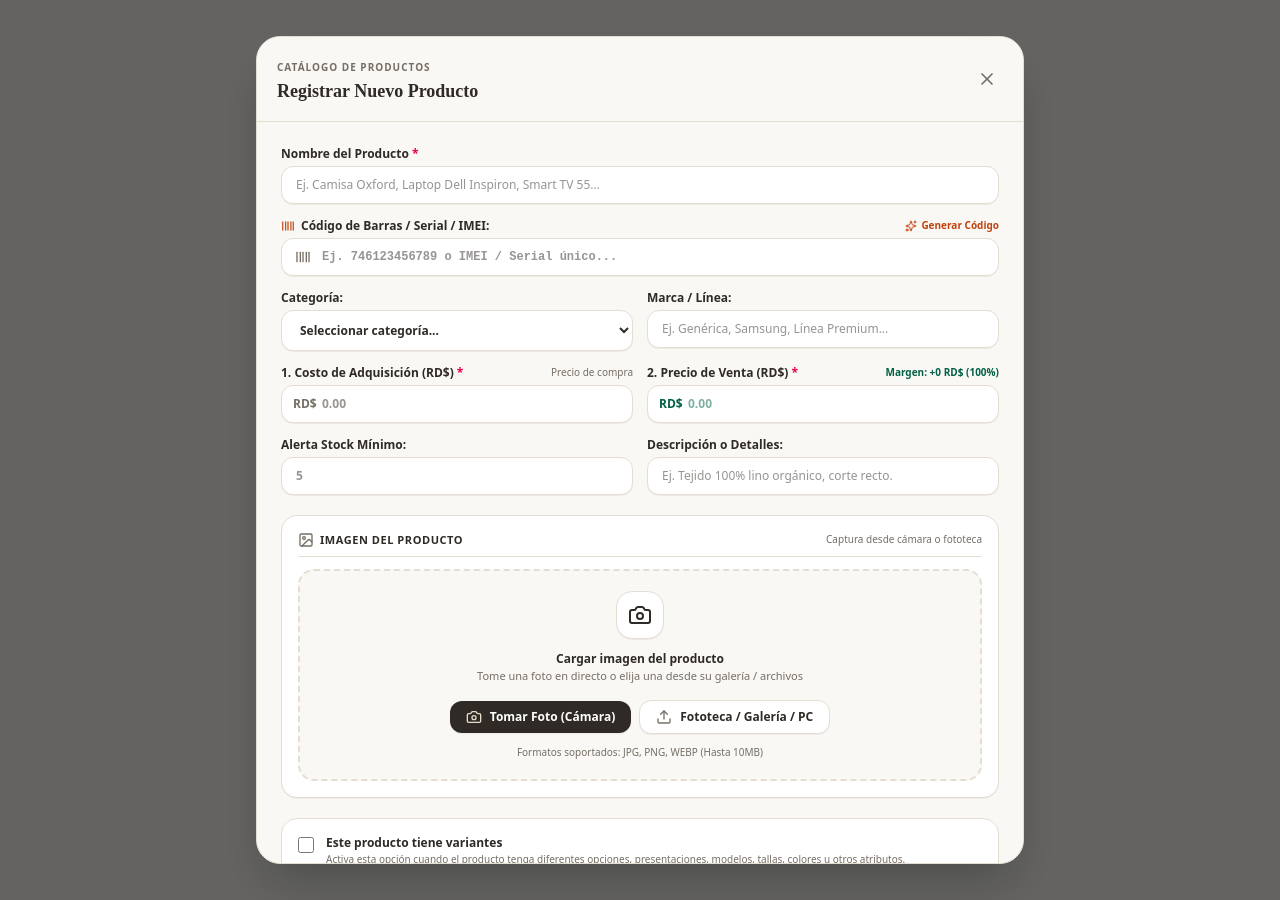
ProductFormModal -- "Generar Combinaciones" es aditivo (Parte 4/13) › no elimina una variante agregada individualmente que está fuera de la selección actual
This screenshot has width=1280, height=900.
Click the checkbox labelled "Este producto tiene variantes" at (306, 845), box [298,837,314,853]
(page scrolled)
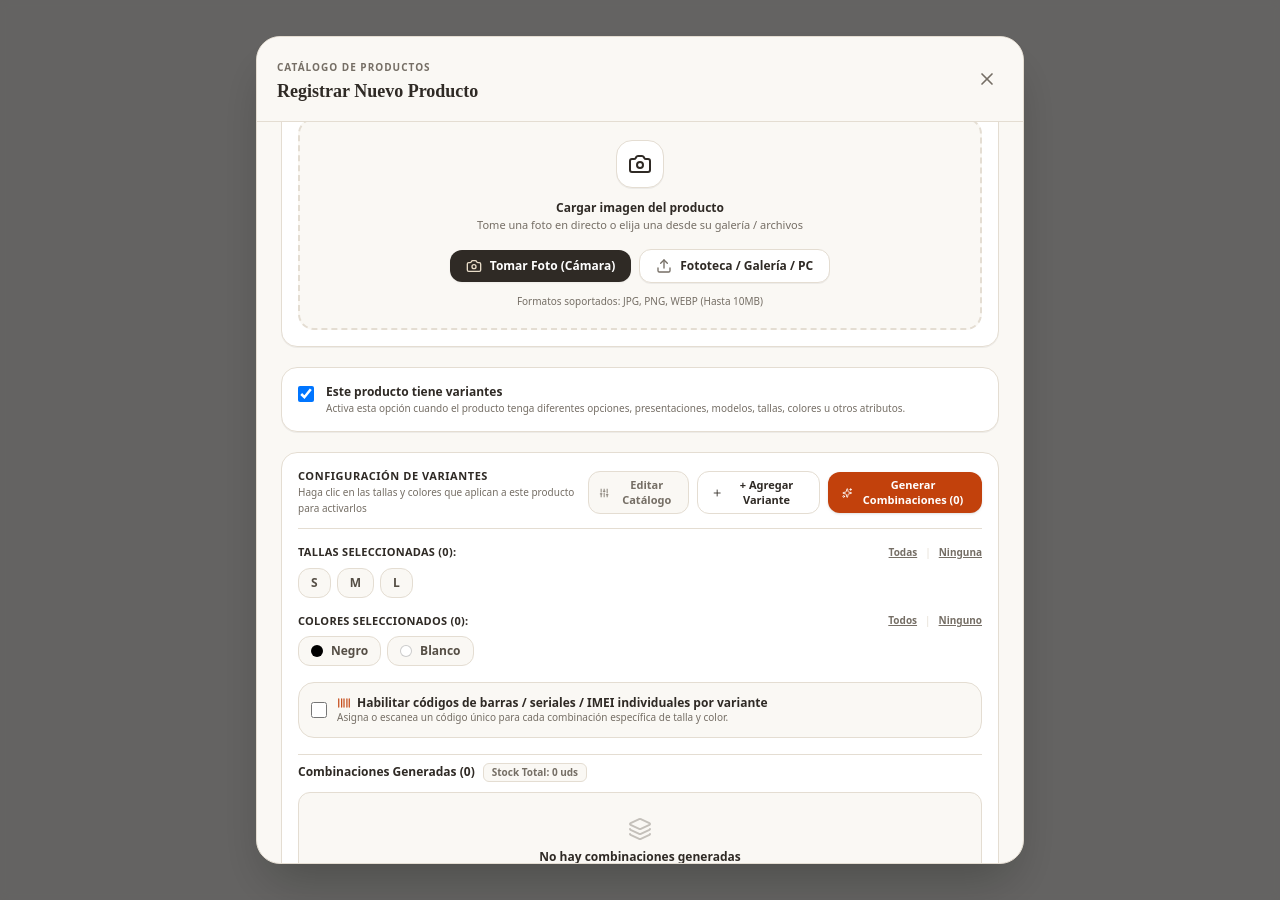
Click the button "+ Agregar Variante" at (758, 493), box [697,471,820,514]
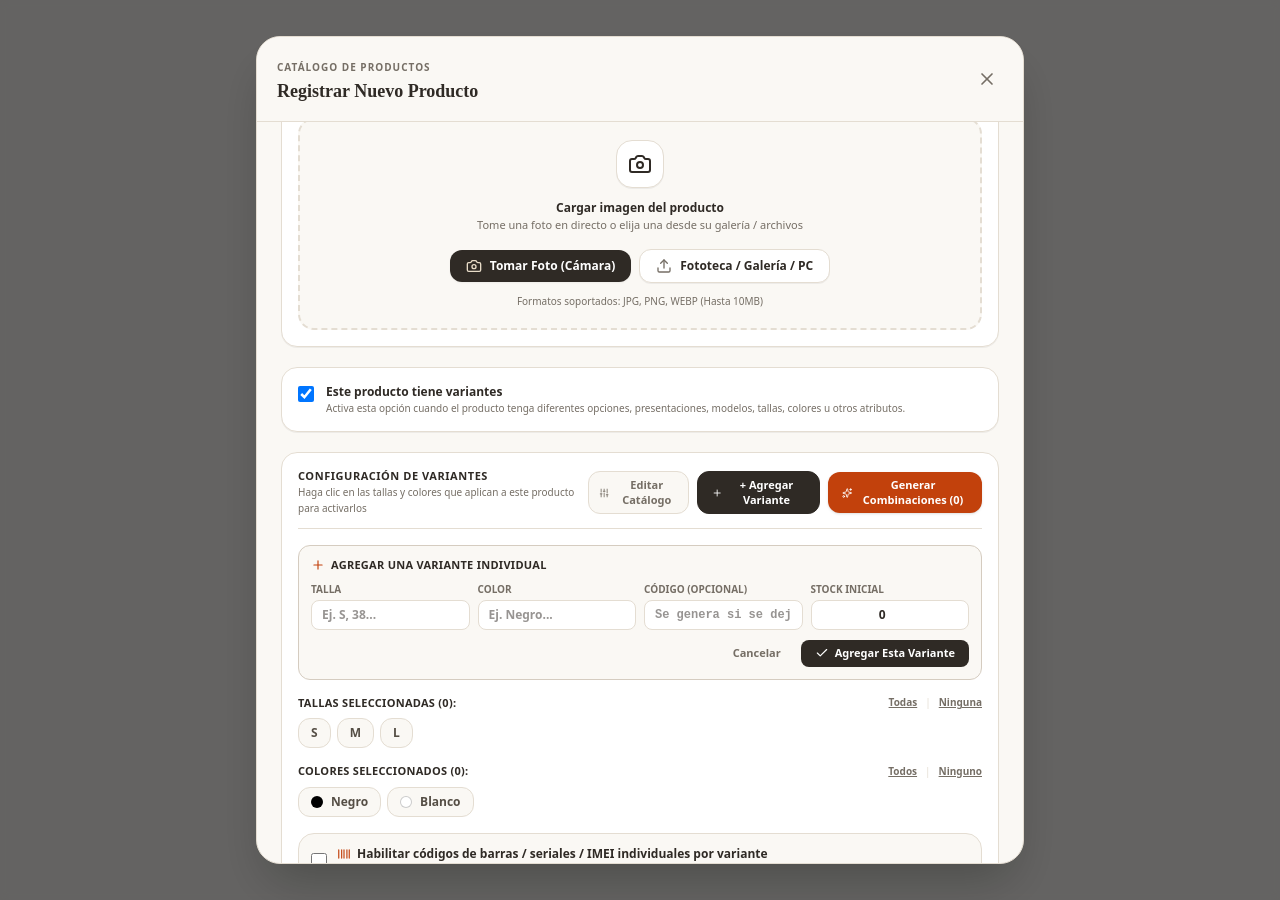
Type "L" into the field with placeholder "Ej. S, 38..." at (390, 615), box [311,600,470,630]
Type "Blanco" into the field with placeholder "Ej. Negro..." at (557, 615), box [478,600,636,630]
Click the button "Agregar Esta Variante" at (885, 653), box [801,640,969,667]
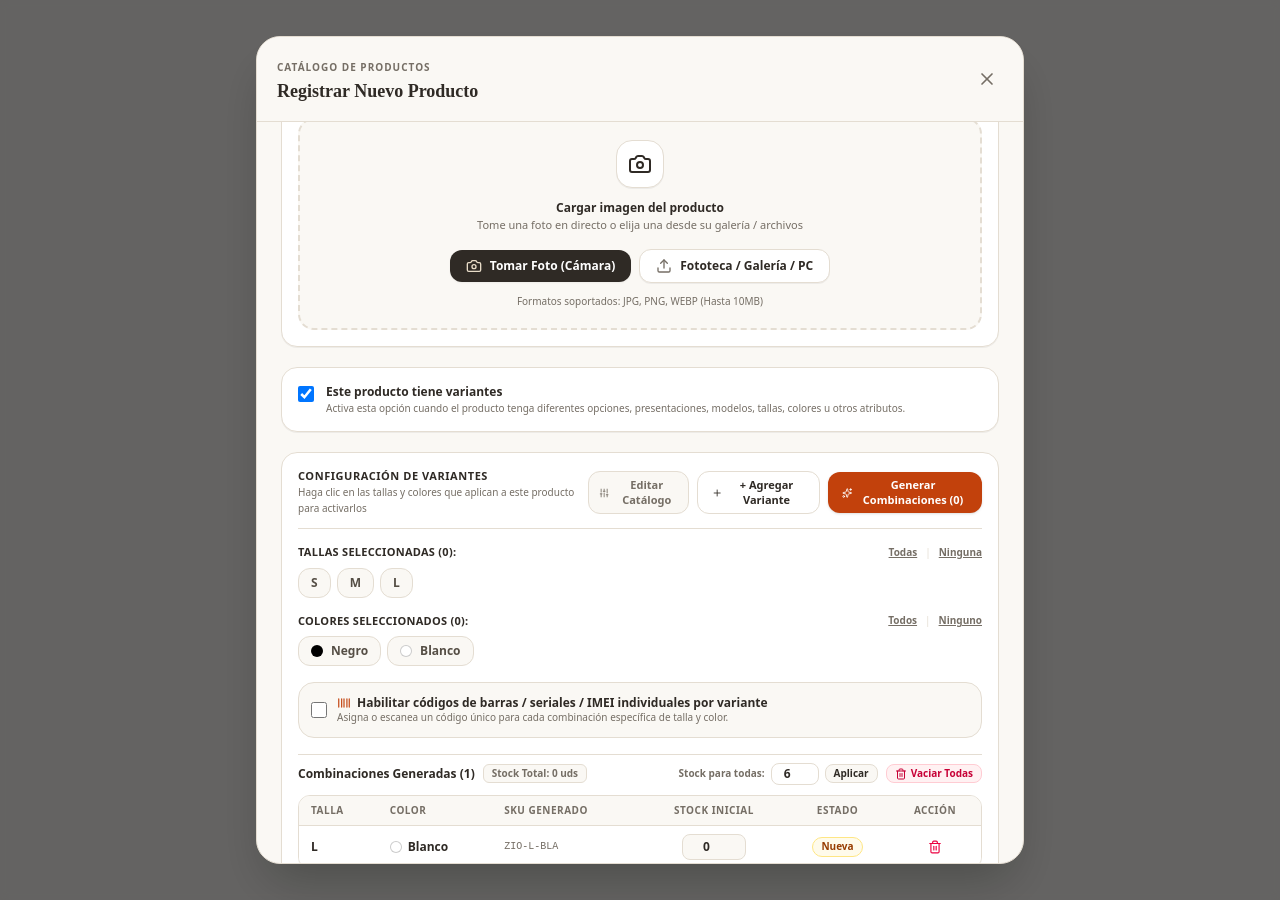
Now the text "Combinaciones Generadas (1)" is shown, box [298,766,475,782]
Click the button "S" at (314, 583), box [298,568,331,598]
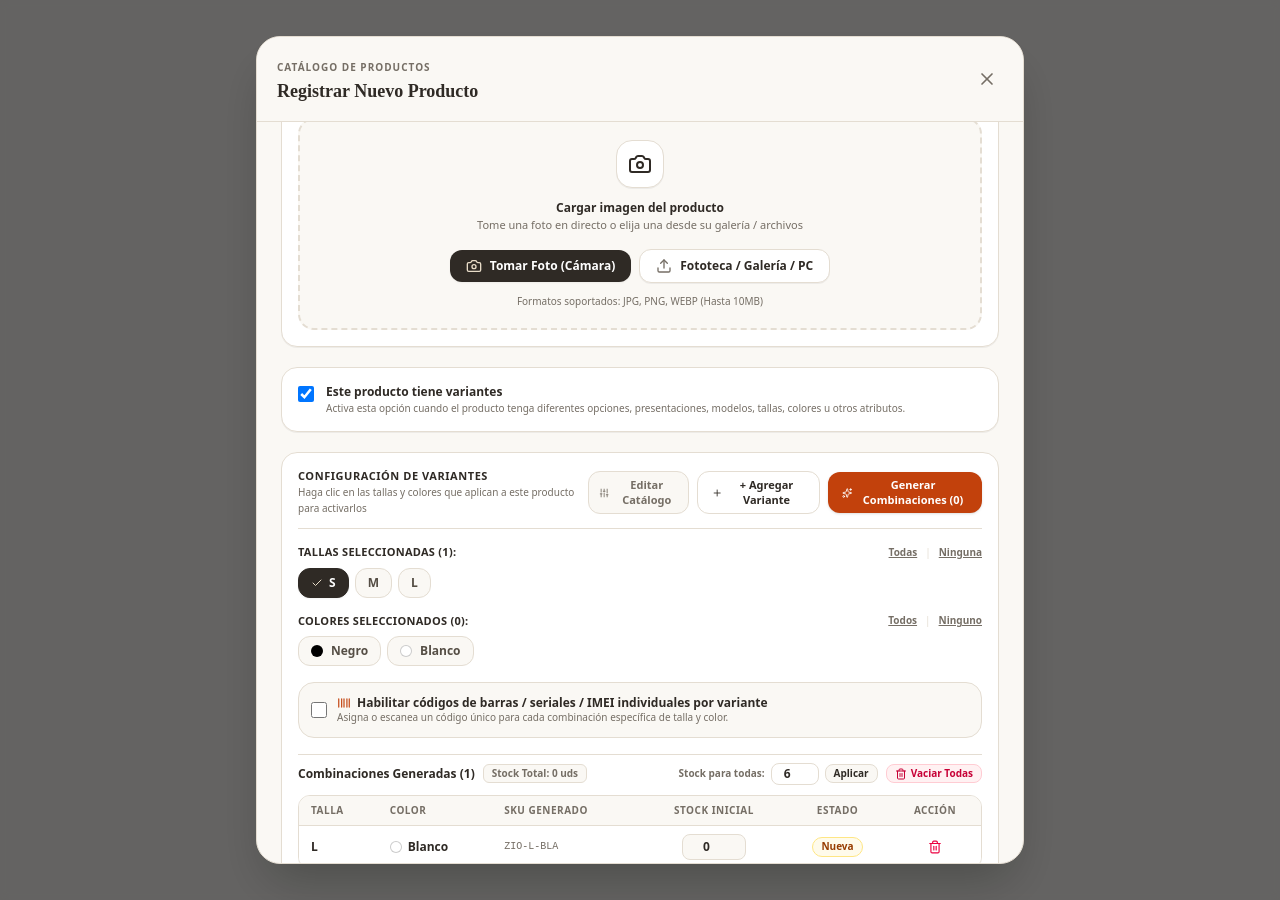
Click the button "Negro" at (340, 651), box [298,636,381,666]
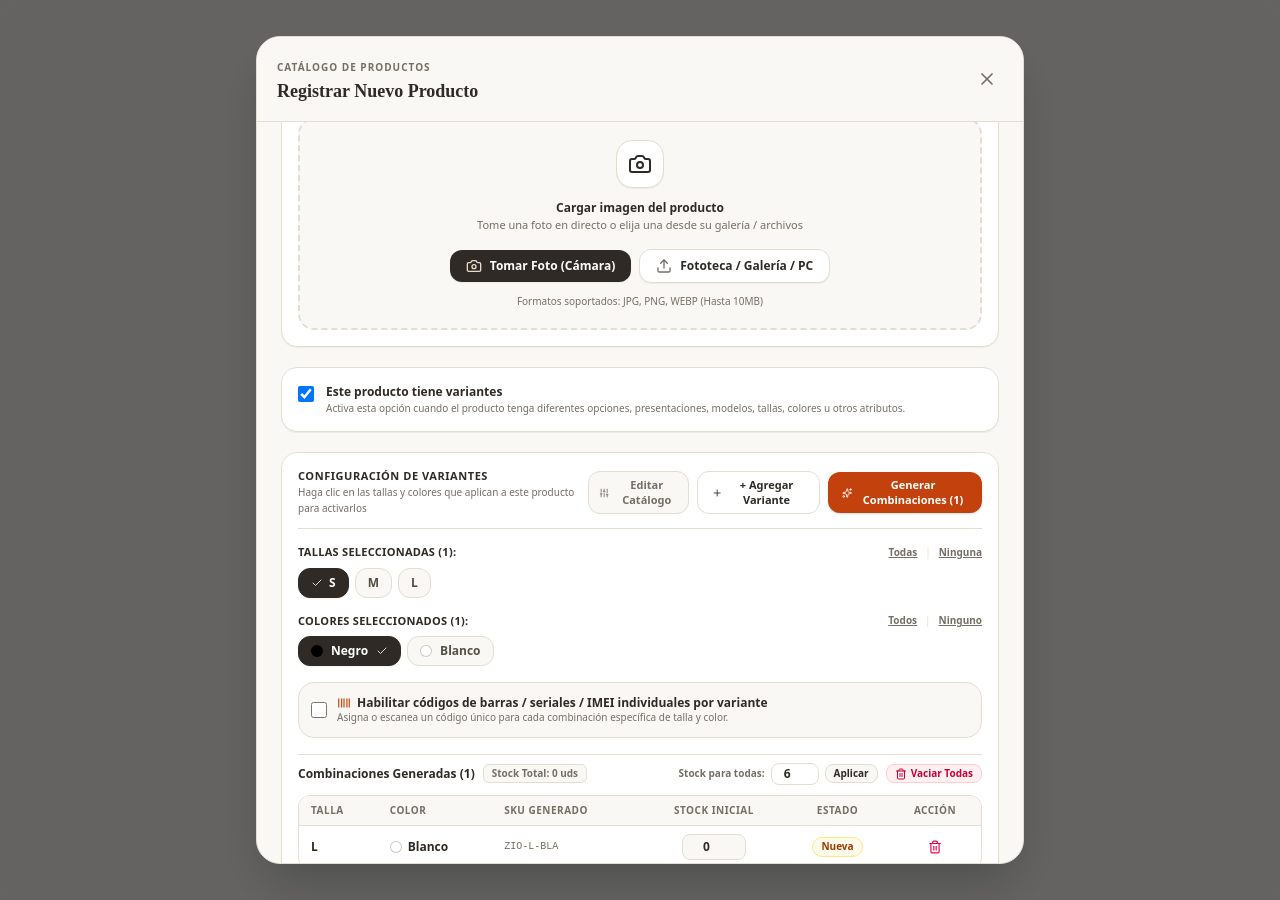
Click the button "Generar Combinaciones (1)" at (905, 493), box [828,472,982,513]
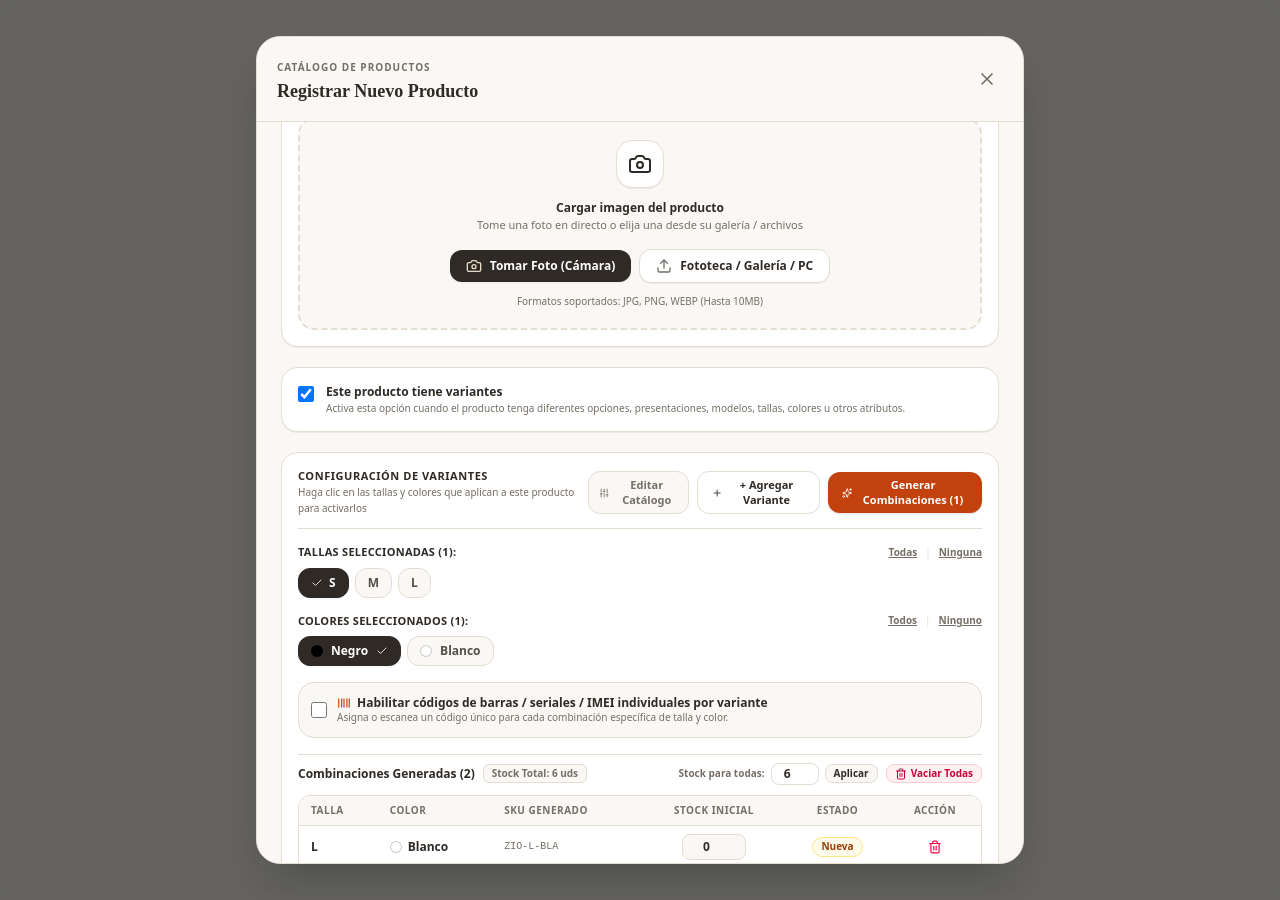
Now the text "Combinaciones Generadas (2)" is shown, box [298,766,475,782]
